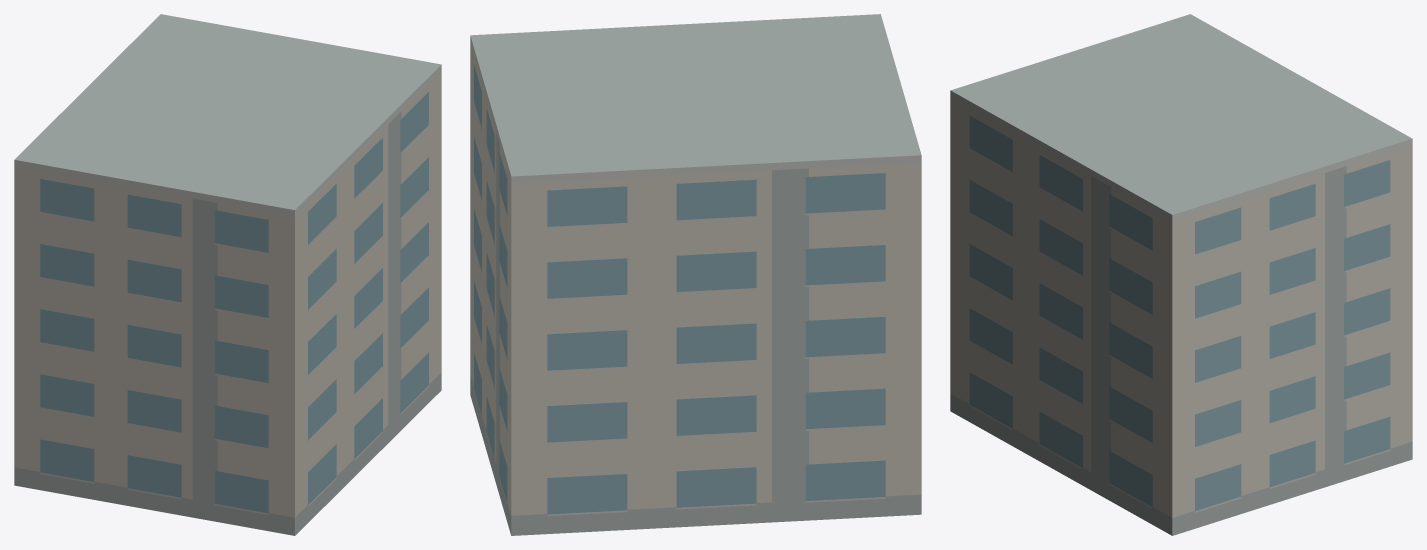
Rendered from residential-1cdc4880-eb71-44eb-8834-f4d6533c7283.glb.
3 views of the same model, side by side, from view 1: azimuth 30°, elevation 25°; view 2: azimuth 150°, elevation 25°; view 3: azimuth 270°, elevation 25° (orthographic). The views are drawn at different scales.
Visible parts, largest first — view 1: residential-1cdc4880-eb71-44eb-8834-f4d6533c7283.tmp; view 2: residential-1cdc4880-eb71-44eb-8834-f4d6533c7283.tmp; view 3: residential-1cdc4880-eb71-44eb-8834-f4d6533c7283.tmp.
Boxes of the visible parts, box(x1,y1,x2,y2) form: residential-1cdc4880-eb71-44eb-8834-f4d6533c7283.tmp: box(14, 14, 441, 535); residential-1cdc4880-eb71-44eb-8834-f4d6533c7283.tmp: box(470, 14, 921, 535); residential-1cdc4880-eb71-44eb-8834-f4d6533c7283.tmp: box(950, 14, 1412, 535).
Bounding box in the file's own units: 16.13 × 12 × 15.67.
